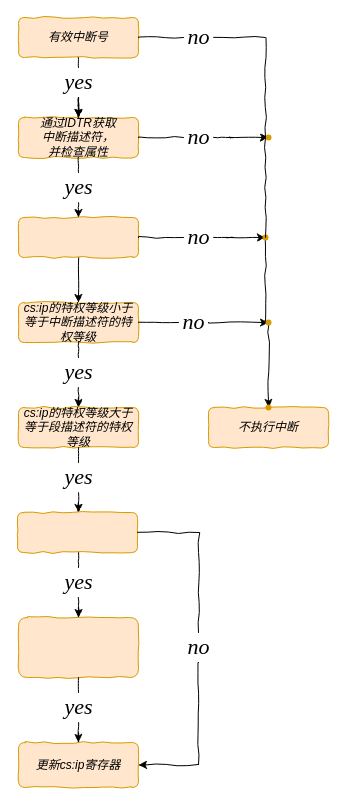
Some shapes in this 346 by 805 pixel diagram are drawn without their labels. Here are the shapes that lost their labels. From the top down, the centre of each, then its label:
[78,237]: 通过GDTR获取 段表描述符
[77,532]: cs:ip的特权等级大于段描述符特权等级
[78,647]: 提升cs:ip的特权等级，栈切换时，还需检查tss等寄存器的权限
